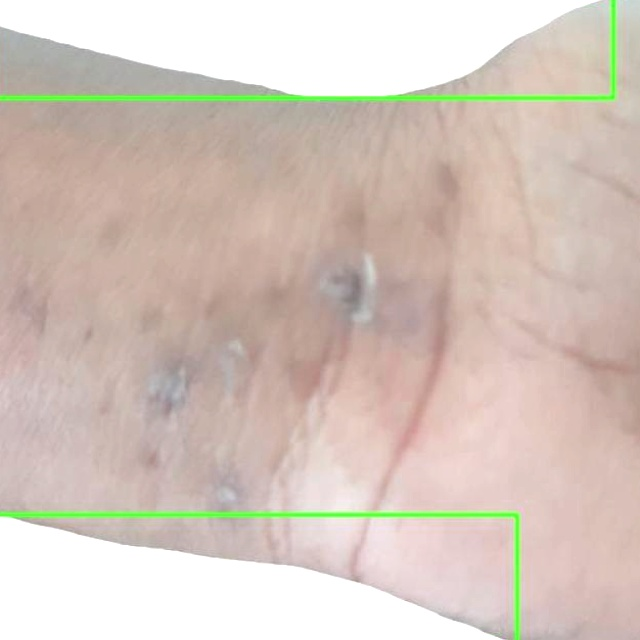Scabies: (0, 514, 517, 639), (0, 0, 613, 98)
